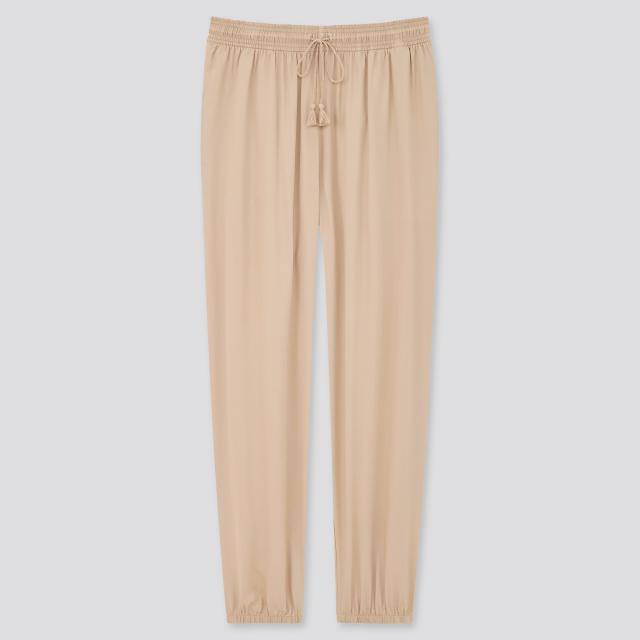long-pants: (198, 16, 443, 629)
